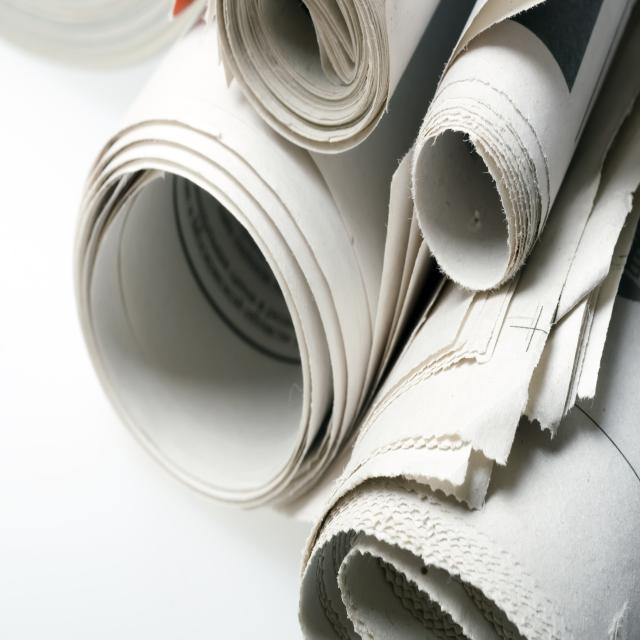paper: (119, 91, 347, 508)
